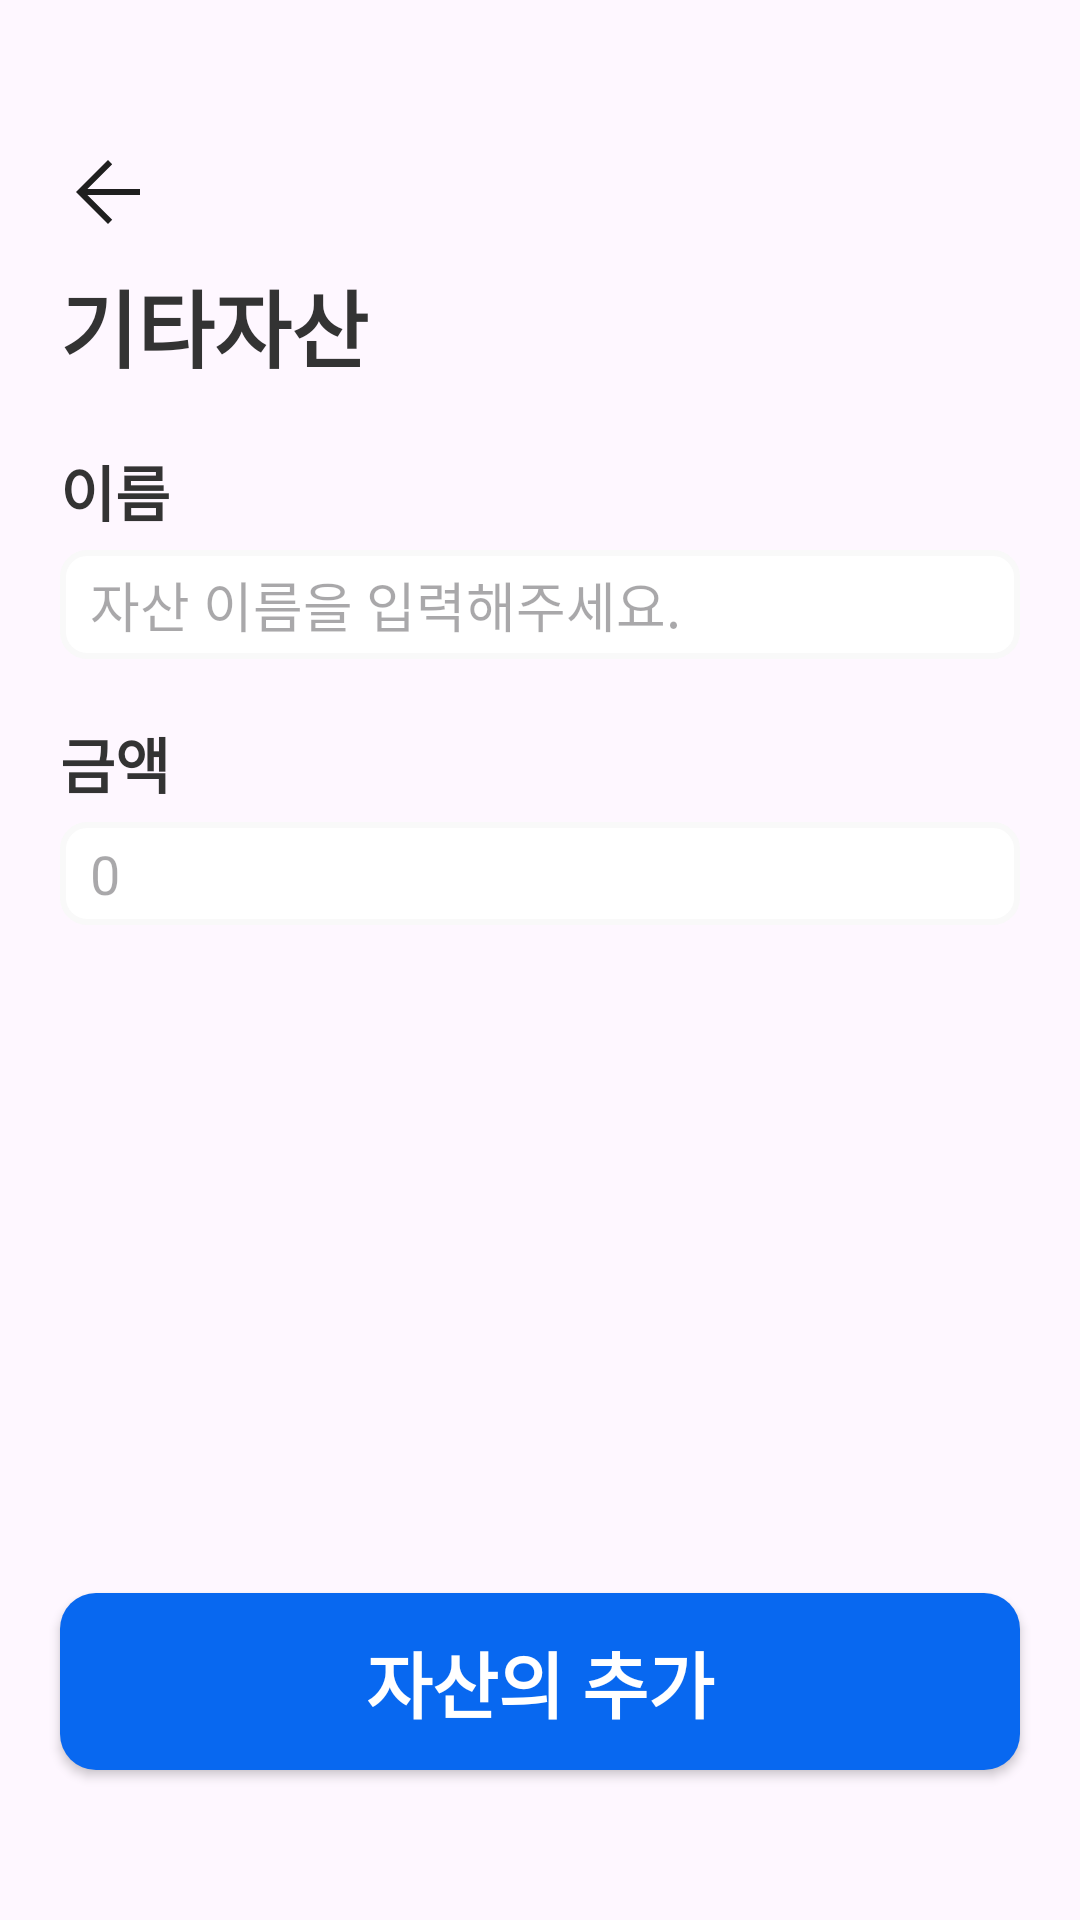

Icons on this 1080px×1920px Android screen, each with the point to tap as (x=x, y=y):
back: (x=108, y=192)
